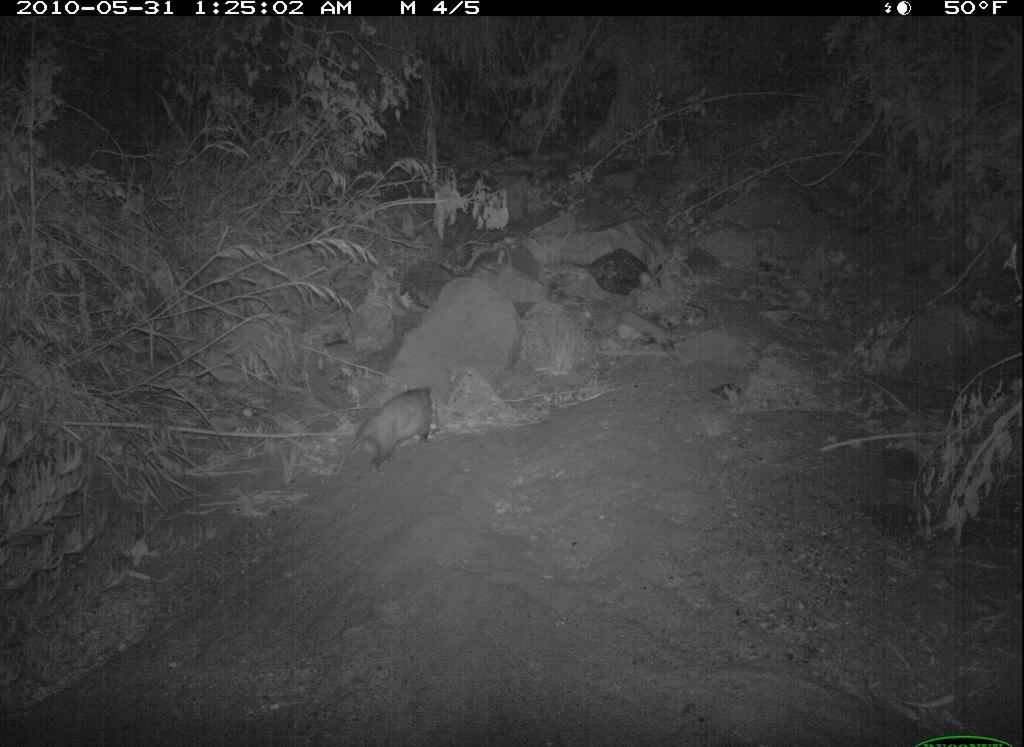opossum: (336, 374, 443, 477)
